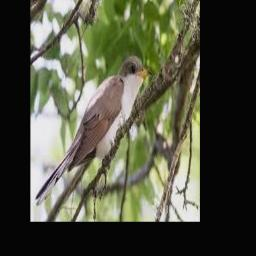Cuckoo: (36, 55, 152, 205)
